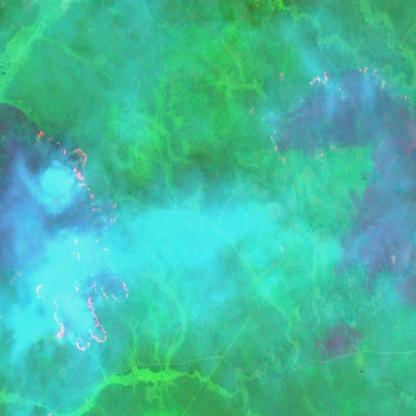fire: (24, 128, 134, 360)
